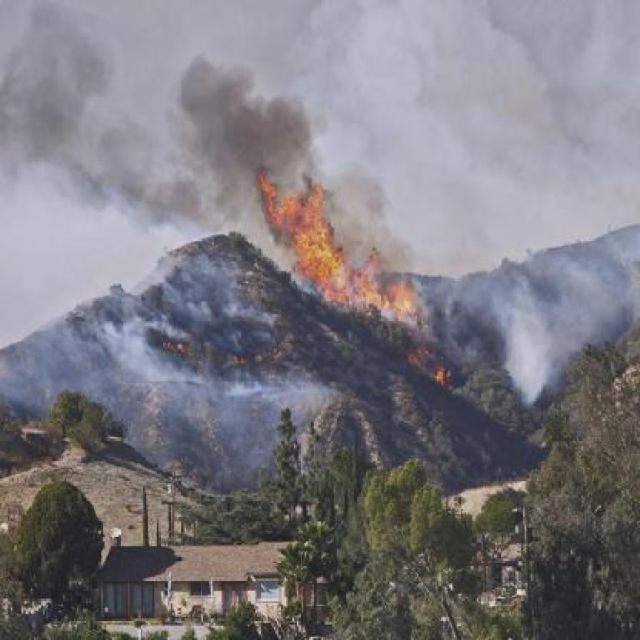Fire: (264, 172, 428, 314), (407, 342, 430, 364), (434, 366, 444, 384), (176, 340, 187, 356)
